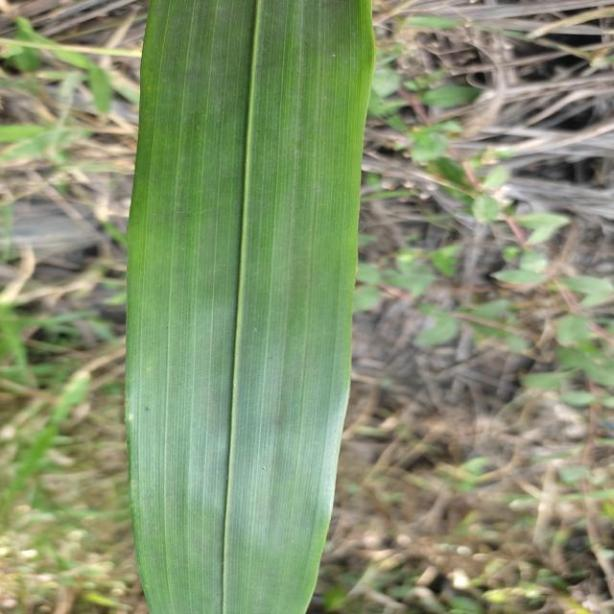Healthy: (123, 0, 371, 614)
